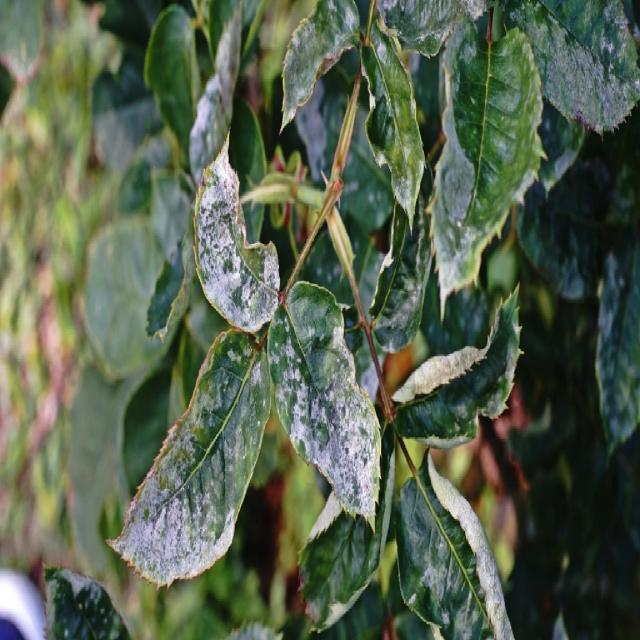Powdery Mildew: (105, 327, 272, 590), (267, 290, 382, 530), (192, 127, 280, 334)
